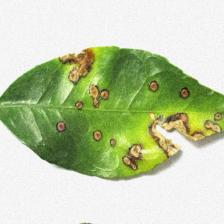canker: (57, 46, 224, 177)
